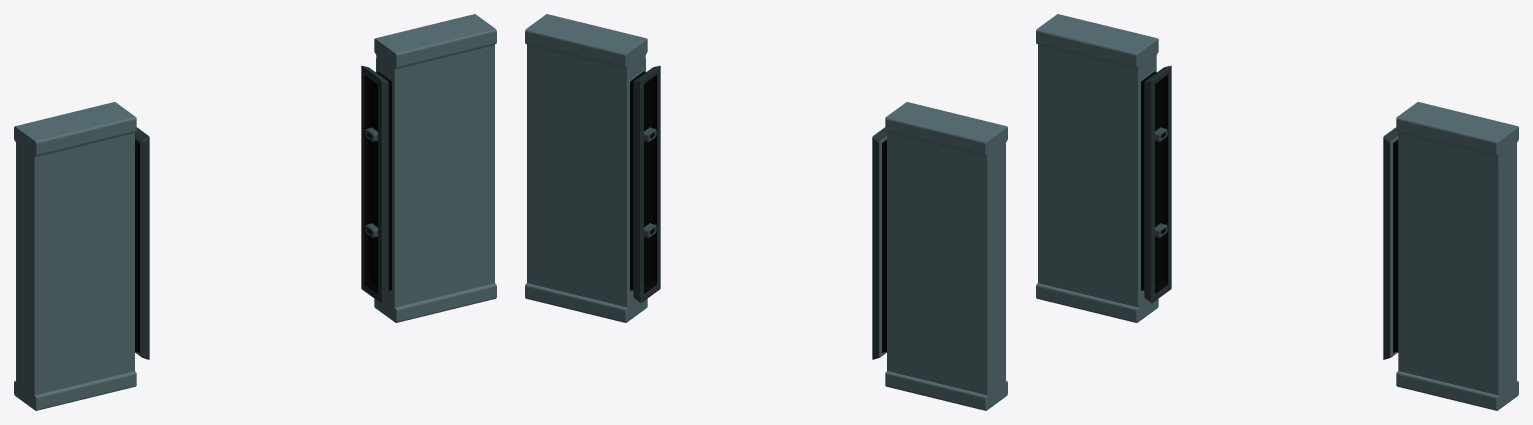
The model's file is laser gate.fbx.
3 renders of one model, left to right at view 1: azimuth 30°, elevation 25°; view 2: azimuth 150°, elevation 25°; view 3: azimuth 330°, elevation 25°, orthographic.
Parts seen in each view (by area): view 1: laser gate; view 2: laser gate; view 3: laser gate.
Boxes of the visible parts, bbox=[...] form: laser gate: bbox=[14, 14, 496, 410]; laser gate: bbox=[525, 14, 1007, 410]; laser gate: bbox=[1036, 14, 1518, 410].
Bounding box in the file's own units: 552 × 308 × 46.25.
